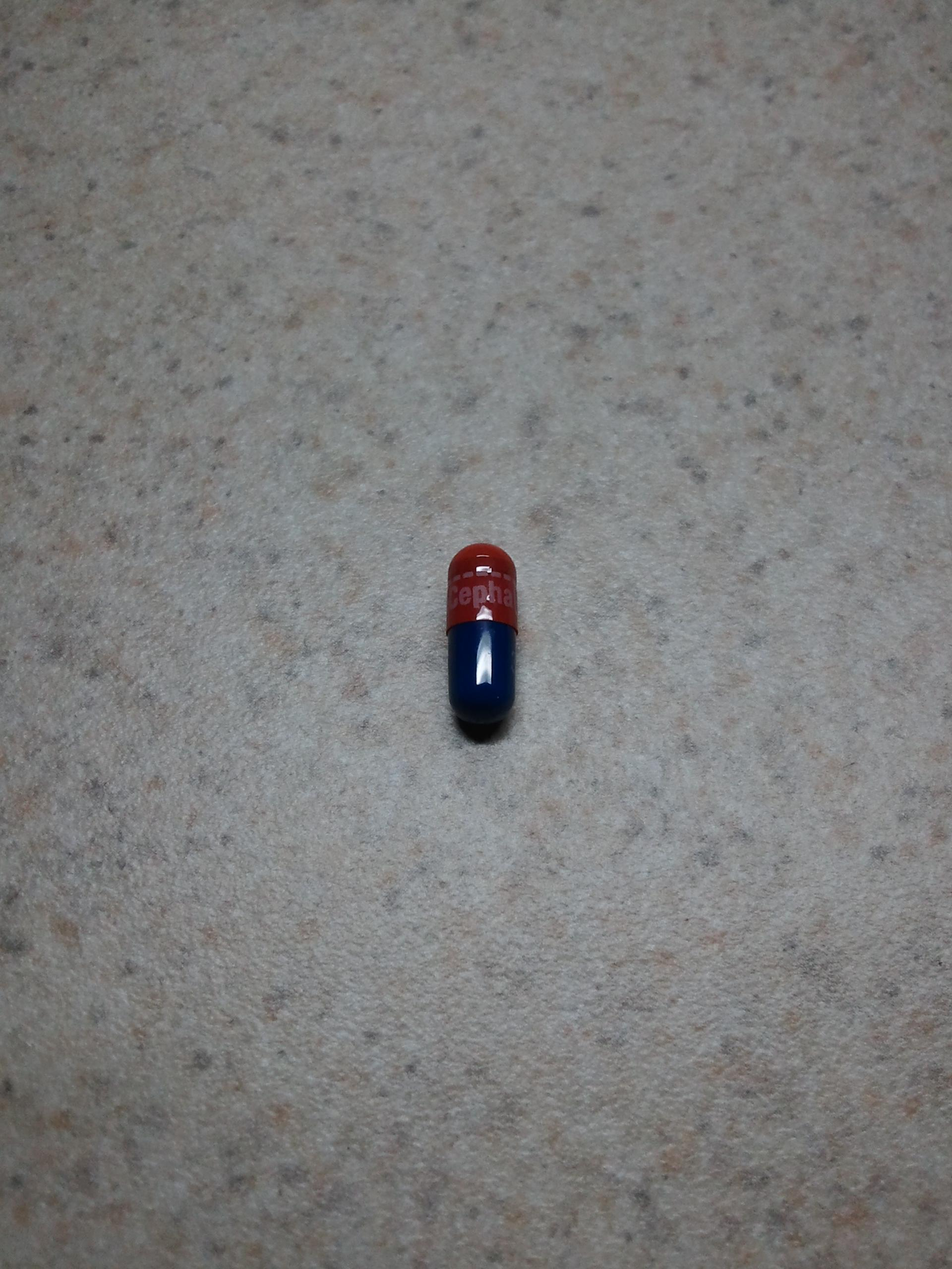Pill: (434, 530, 530, 764)
